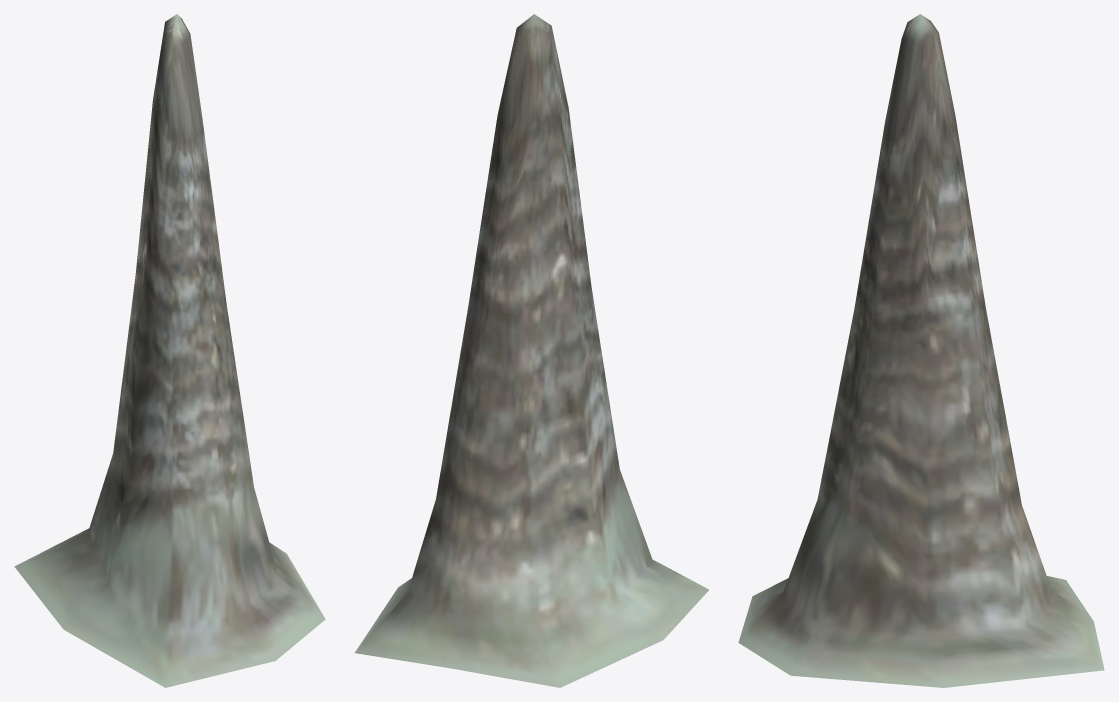
The model's file is TROLLHOLE02_PS-UPPERSTALAG01.fbx.
The picture shows the model from 3 angles, left to right: view 1: azimuth 30°, elevation 25°; view 2: azimuth 150°, elevation 25°; view 3: azimuth 270°, elevation 25°; orthographic projection. The views are drawn at different scales.
Visible parts, largest first — view 1: TROLLHOLE02_PS-UPPERSTALAG01; view 2: TROLLHOLE02_PS-UPPERSTALAG01; view 3: TROLLHOLE02_PS-UPPERSTALAG01.
Boxes of the visible parts, box(x1,y1,x2,y2) form: TROLLHOLE02_PS-UPPERSTALAG01: box(14, 14, 325, 687); TROLLHOLE02_PS-UPPERSTALAG01: box(355, 14, 708, 687); TROLLHOLE02_PS-UPPERSTALAG01: box(738, 14, 1104, 687).
Bounding box in the file's own units: 11475 × 27121 × 14307.
1 material, 1 textured.
